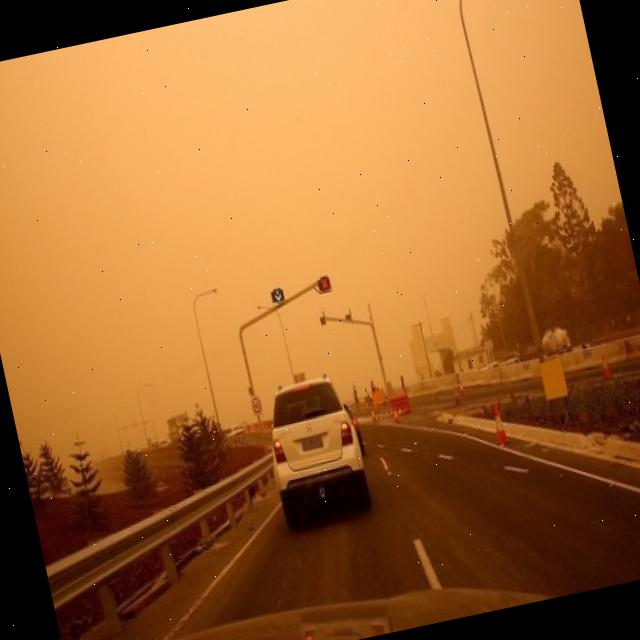car: (256, 370, 376, 528)
